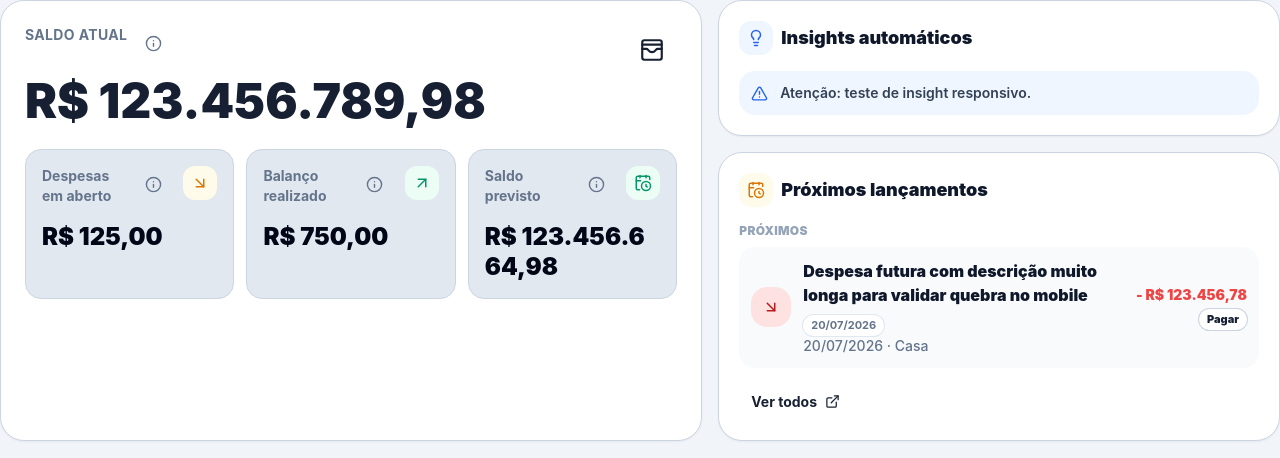
Test: DashboardInicioPanel › mantém os textos explicativos em tooltips acessíveis
Hover over the button named "Ajuda: Saldo atual" at (153, 43), box [135,25,171,61]
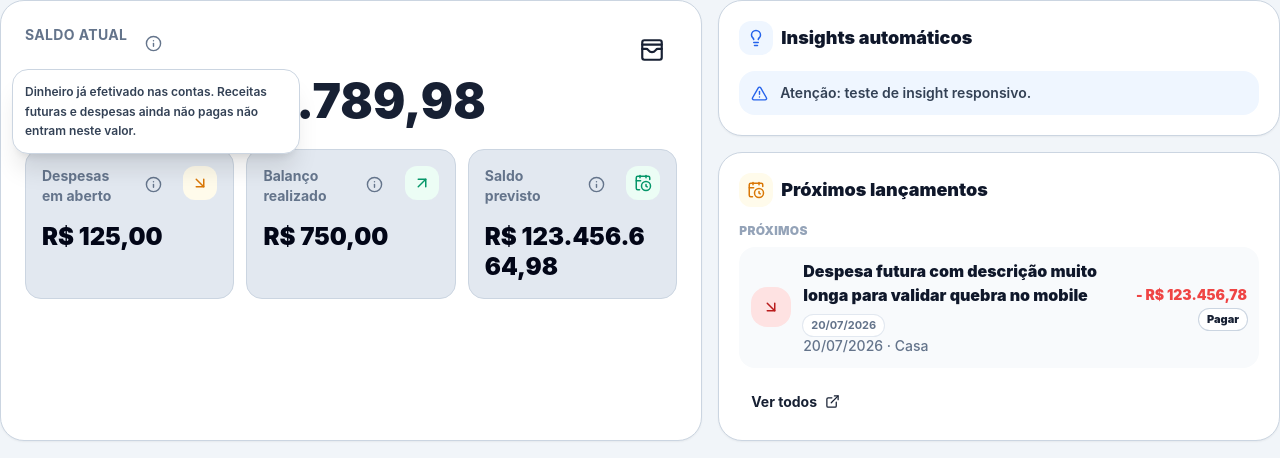
Now the tooltip shows "Dinheiro já efetivado nas contas. Receitas futuras e despesas ainda não pagas não entram neste valor.", box [25,84,267,138]
Move the pointer off the button named "Ajuda: Saldo atual", box [135,25,171,61]
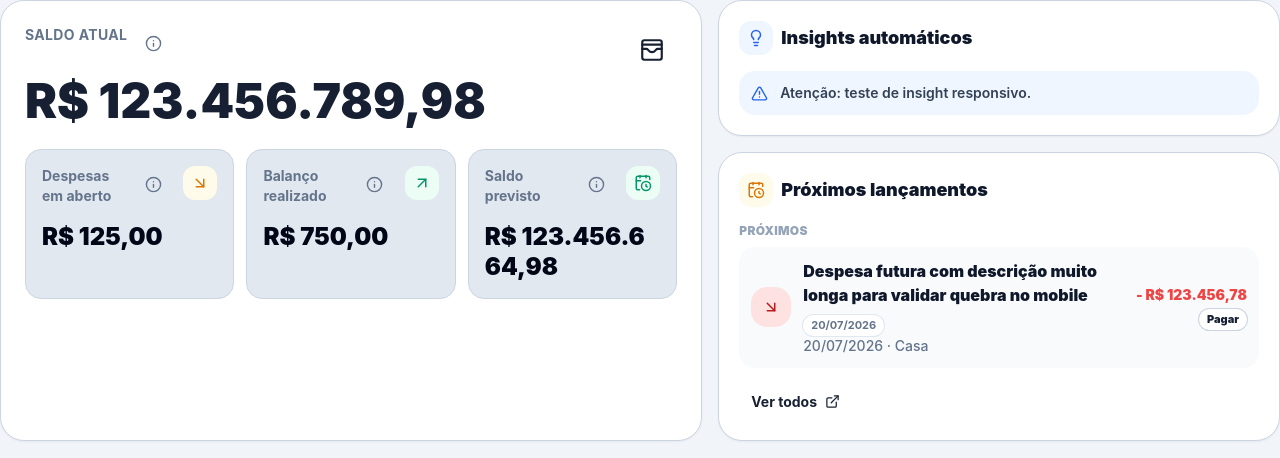
Hover over the button named "Ajuda: Saldo previsto" at (596, 184), box [578,166,614,202]
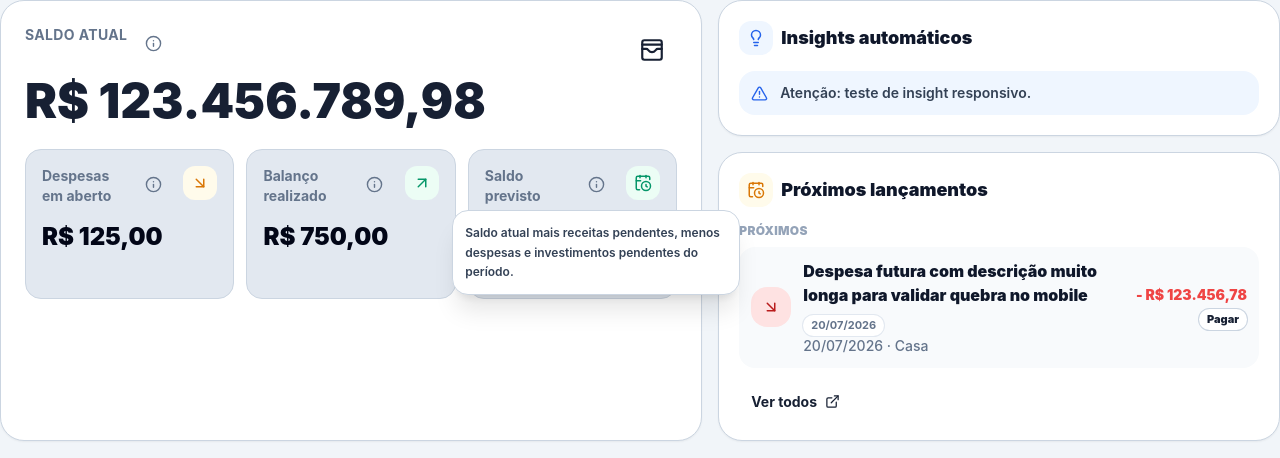
Now the tooltip shows "Saldo atual mais receitas pendentes, menos despesas e investimentos pendentes do período.", box [465,225,720,279]
